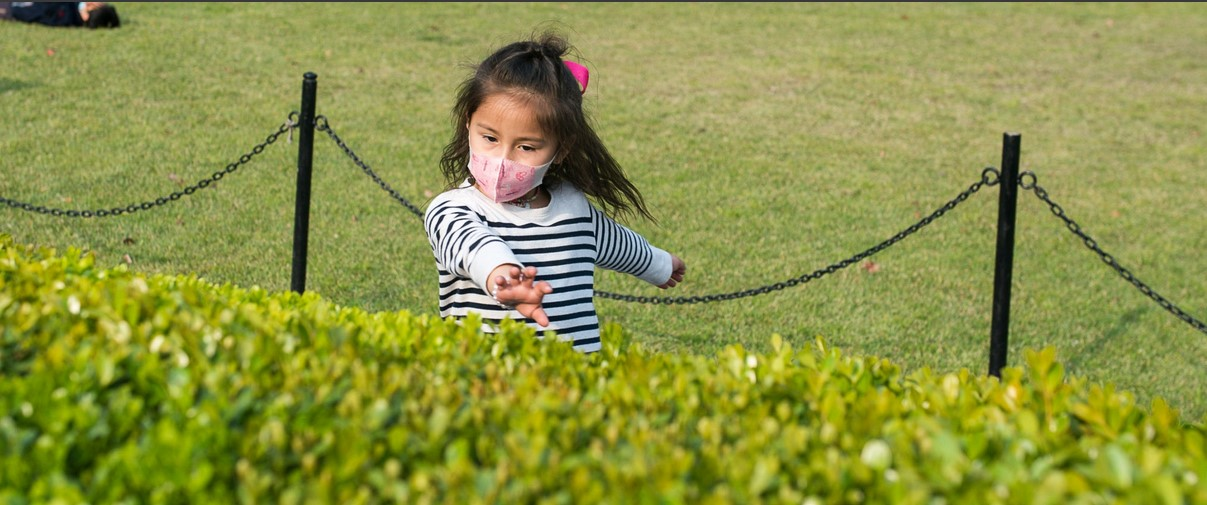face_with_mask: (460, 41, 580, 209)
